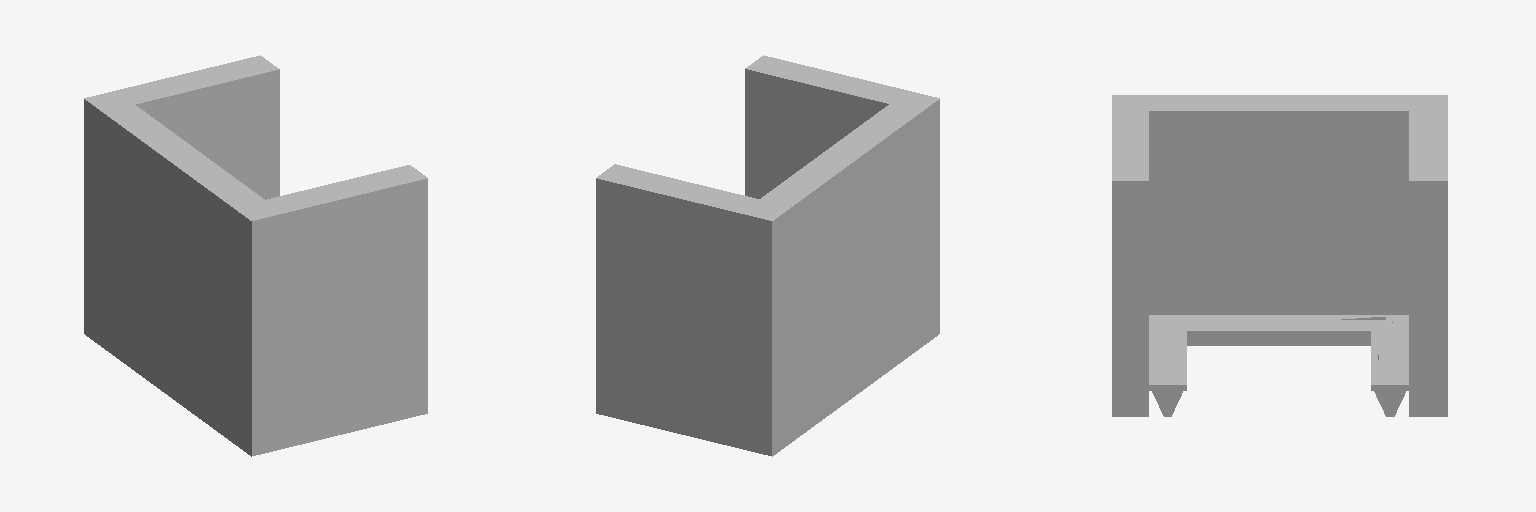
Rendered from Lockers.obj.
The picture shows the model from 3 angles: view 1: azimuth 30°, elevation 25°; view 2: azimuth 150°, elevation 25°; view 3: azimuth 270°, elevation 25°; orthographic projection.
Visible parts, largest first — view 1: pCube10; view 2: pCube10; view 3: pCube10.
Boxes of the visible parts, box(x1,y1,x2,y2) form: pCube10: box(84, 55, 427, 456); pCube10: box(596, 55, 939, 456); pCube10: box(1112, 95, 1447, 416).
Bounding box in the file's own units: 5.47 × 6.96 × 9.